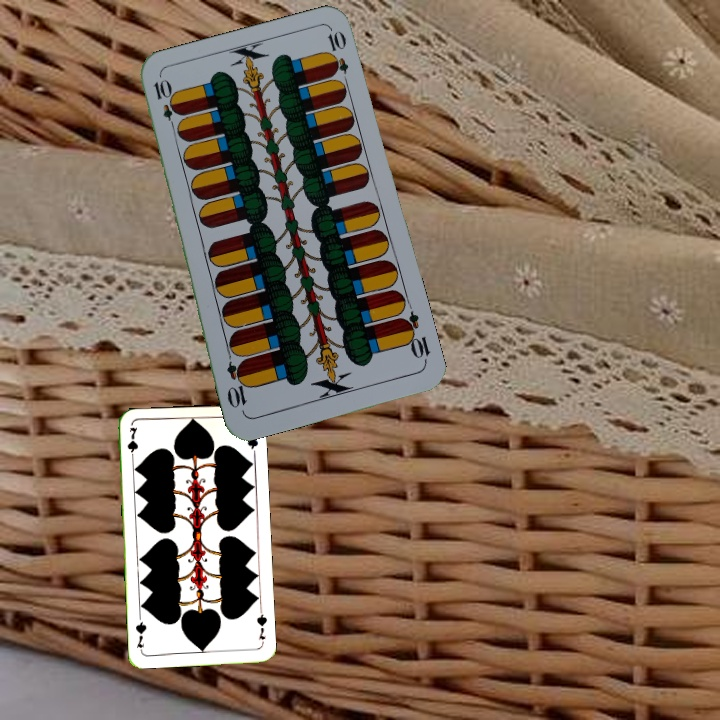E10: (396, 308, 433, 366), (149, 75, 180, 134)
G7: (123, 423, 141, 464), (252, 606, 270, 642)
